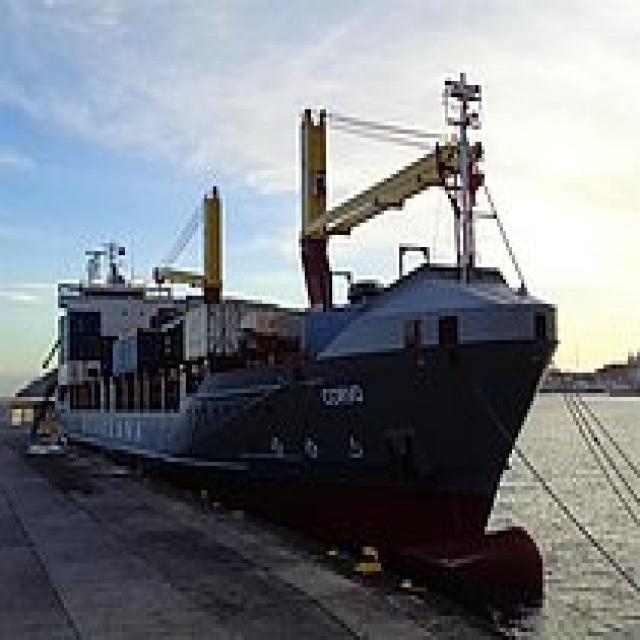Ship: (37, 62, 571, 613)
